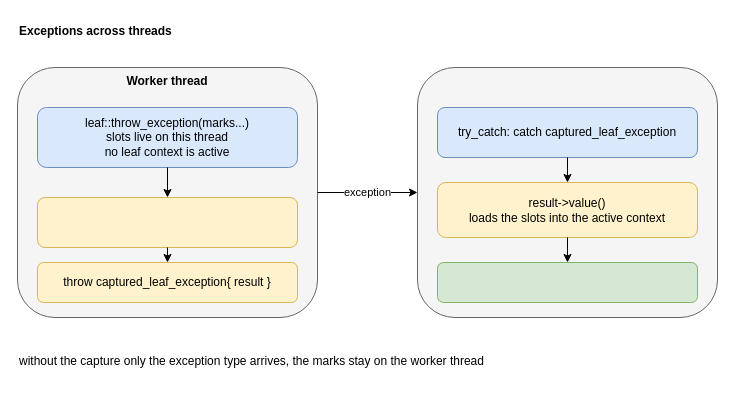
This 735x394 diagram has some shape labels left out. Each missing label, with the box of its shape:
Catching thread: (416, 66, 718, 318)
direct handlers and spy see the marks: (436, 262, 698, 302)
leaf::try_capture_all(...) copies the slots into a leaf::result: (36, 196, 298, 248)
